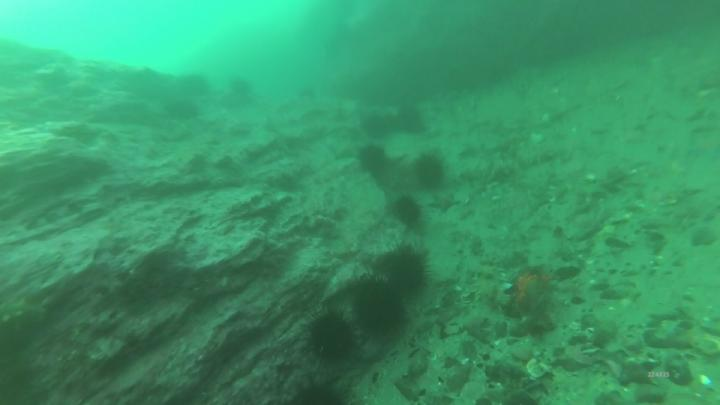echinus: (298, 305, 363, 369), (346, 273, 410, 337), (375, 243, 432, 298), (285, 375, 356, 405), (412, 150, 448, 193), (354, 142, 393, 180), (393, 194, 425, 232), (390, 105, 425, 138), (166, 96, 203, 126), (361, 110, 394, 142), (227, 75, 255, 101)
holothurian: (468, 264, 509, 305)
starfish: (425, 188, 465, 216)
